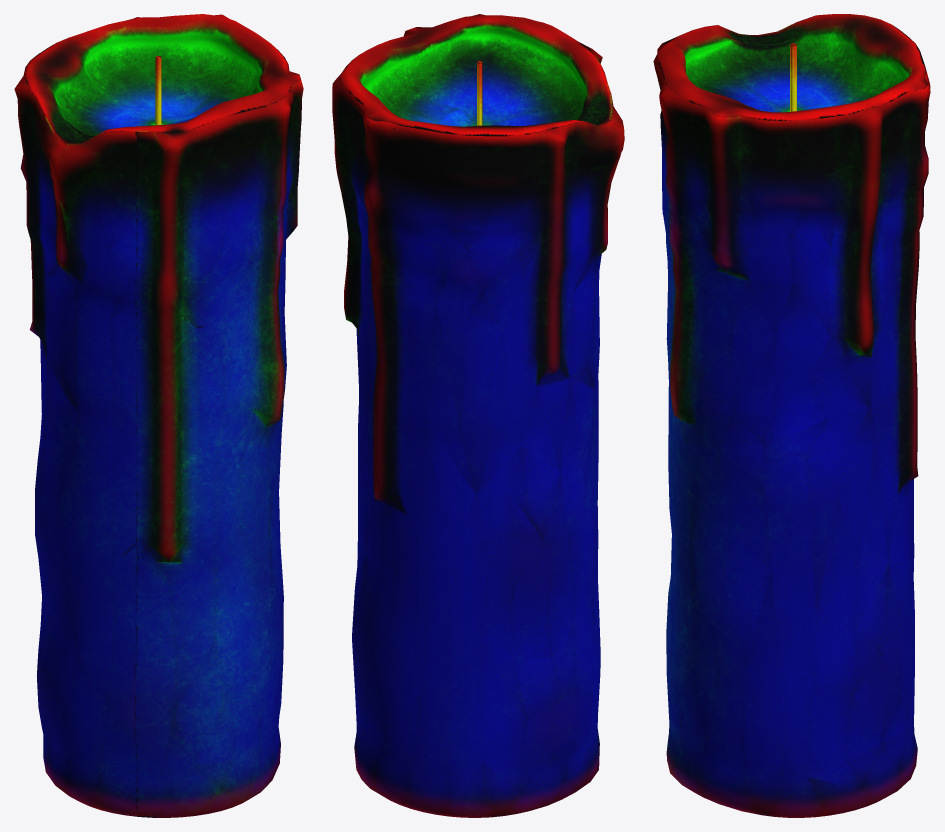
File: SM_Candle_B.fbx
3 renders of one model, left to right at view 1: azimuth 30°, elevation 25°; view 2: azimuth 150°, elevation 25°; view 3: azimuth 270°, elevation 25°, orthographic.
Parts seen in each view (by area): view 1: SM_Candle_B_LOD0; view 2: SM_Candle_B_LOD0; view 3: SM_Candle_B_LOD0.
Part boxes in pixels (x1=…): SM_Candle_B_LOD0: x1=14, y1=14, x2=303, y2=817; SM_Candle_B_LOD0: x1=332, y1=14, x2=624, y2=817; SM_Candle_B_LOD0: x1=653, y1=14, x2=930, y2=817.
Bounding box in the file's own units: 12.51 × 12.22 × 35.21.
Materials: 1 (1 with a texture image).
